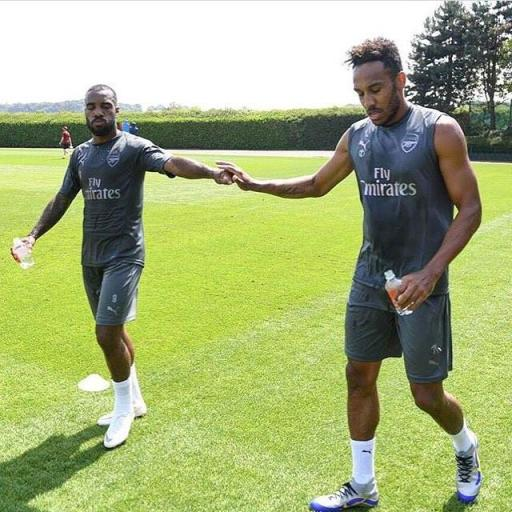Emirates: (360, 165, 418, 197)
